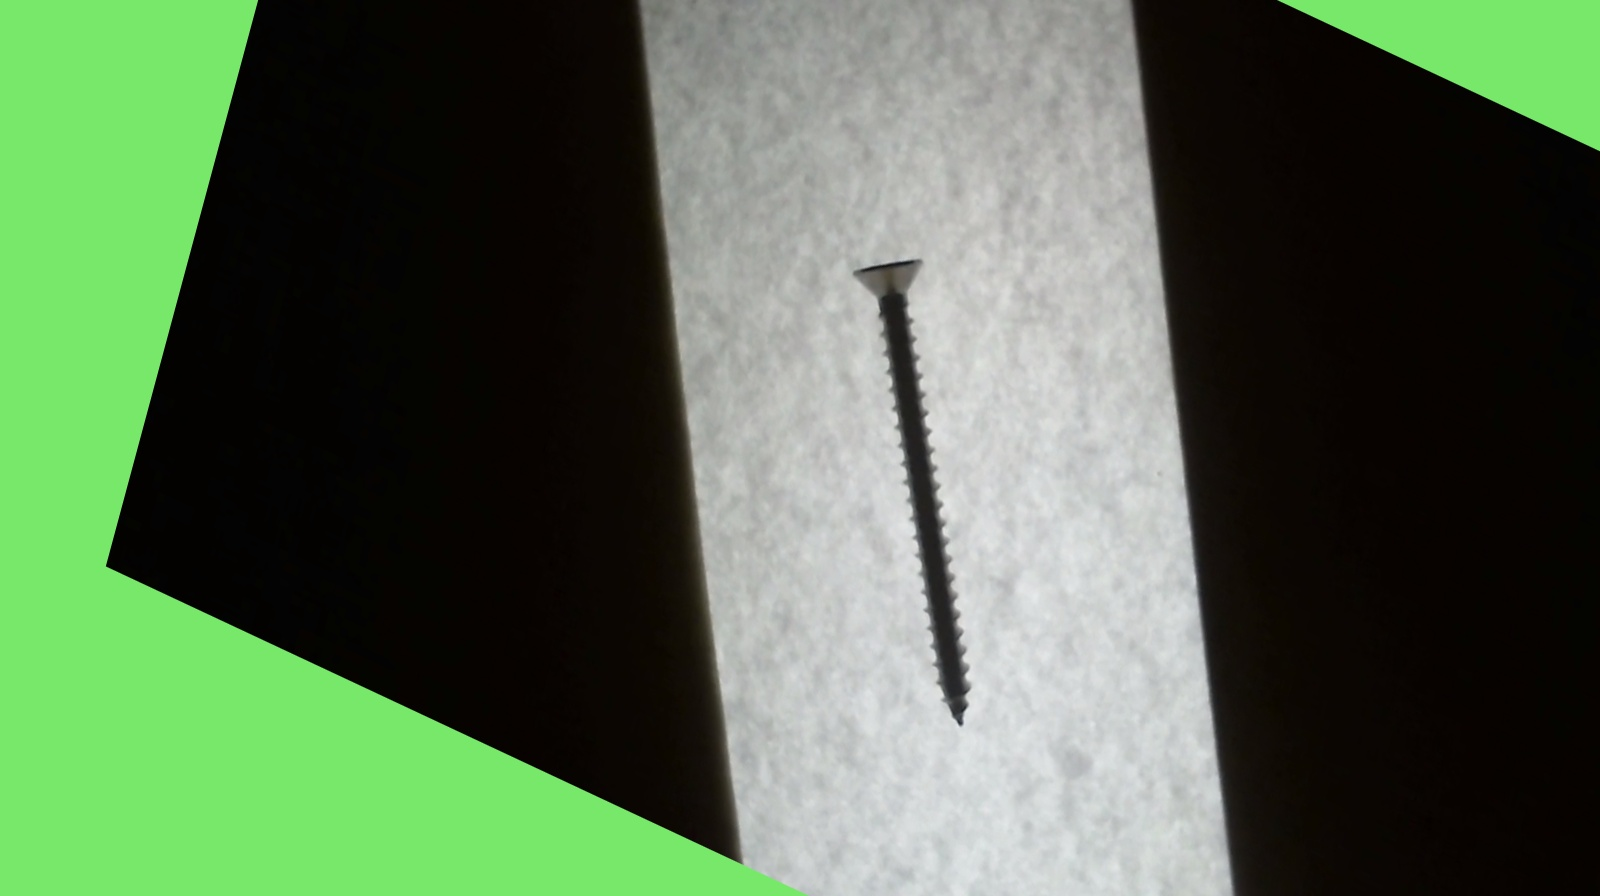S002: (749, 225, 1078, 735)
